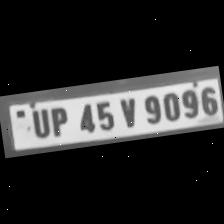0: (158, 90, 181, 122)
4: (70, 101, 97, 135)
5: (92, 97, 118, 132)
6: (196, 84, 221, 118)
9: (139, 91, 164, 126), (178, 86, 201, 119)
P: (45, 103, 72, 138)
U: (26, 106, 54, 140)
V: (113, 94, 141, 130)
